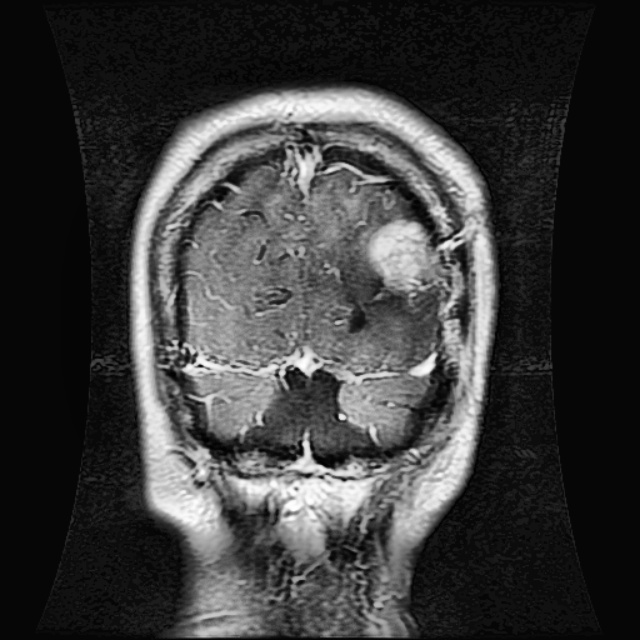Meningioma: (364, 214, 448, 304)
